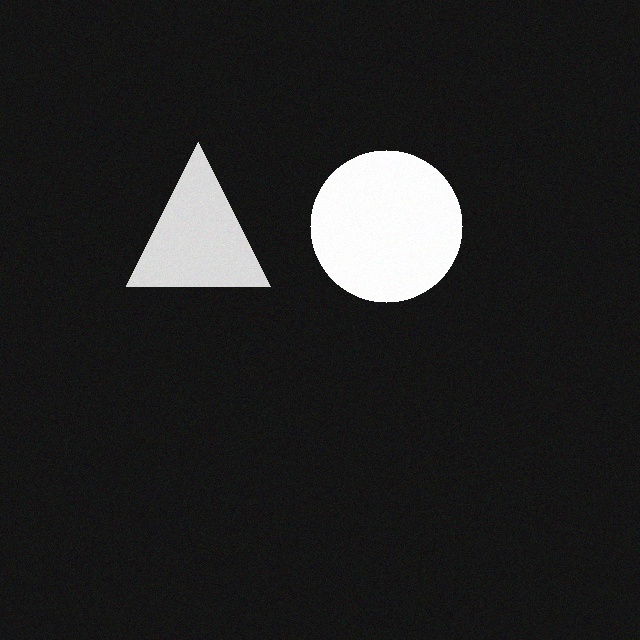circle: (313, 141, 465, 293)
triangle: (129, 133, 273, 277)
